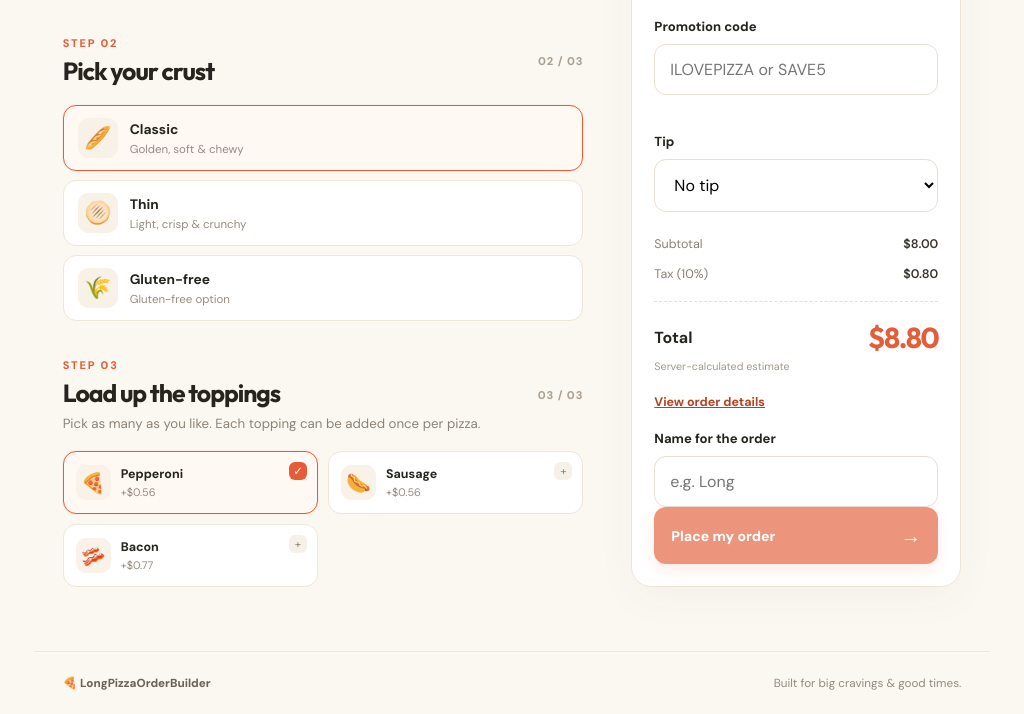
Test: UI-009: submitting sends choices only, and only when the order can be priced › sends no prices, then shows the total the server accepted
(page scrolled)
Expected: the text with test id "order-total" reads "$8.80", 868,319 -> 938,355
Expected: the button "Place my order →" is disabled, 654,507 -> 938,564
Type "  Sam  " into the field labelled "Name for the order" at (796, 482), box 654,456 -> 938,507
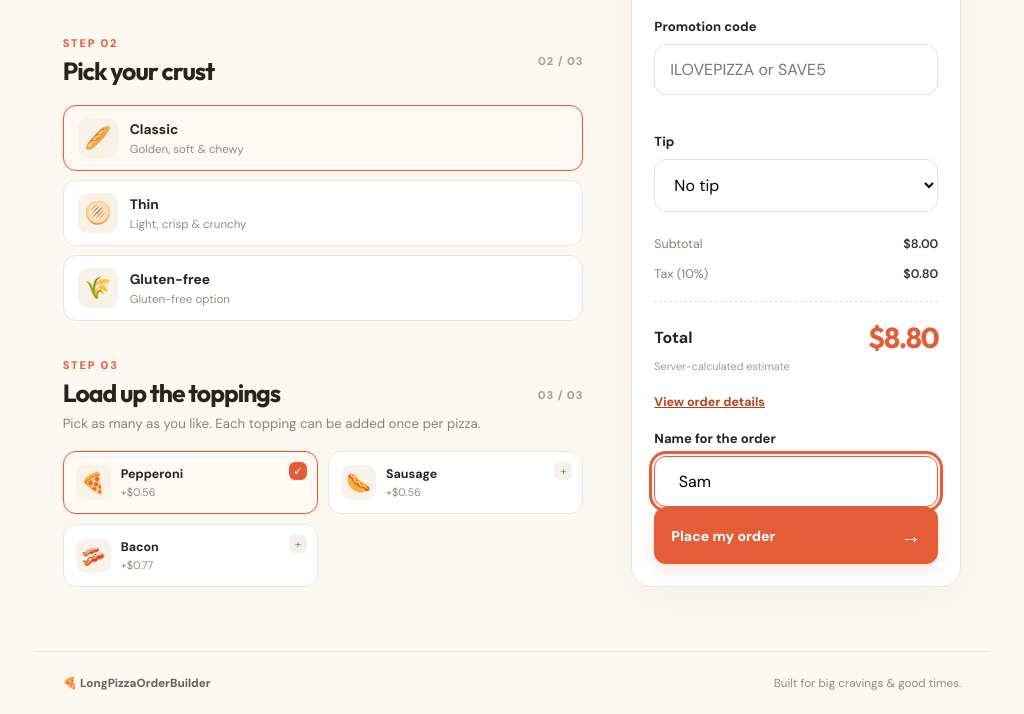
Click the button "Place my order →" at (723, 536), box 654,507 -> 938,564
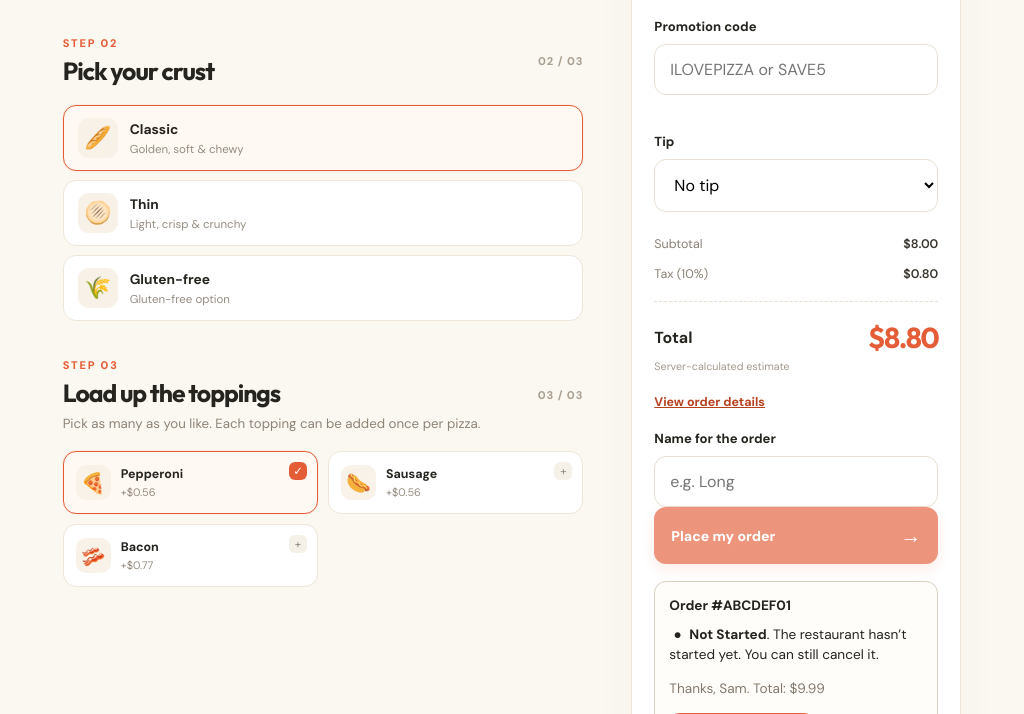
Expected: the text "Order #ABCDEF01" is shown, 669,596 -> 791,617
Expected: the text "Not Started" is shown, 689,626 -> 767,643
Expected: the text "Thanks, Sam. Total: $9.99" is shown, 669,680 -> 825,697
